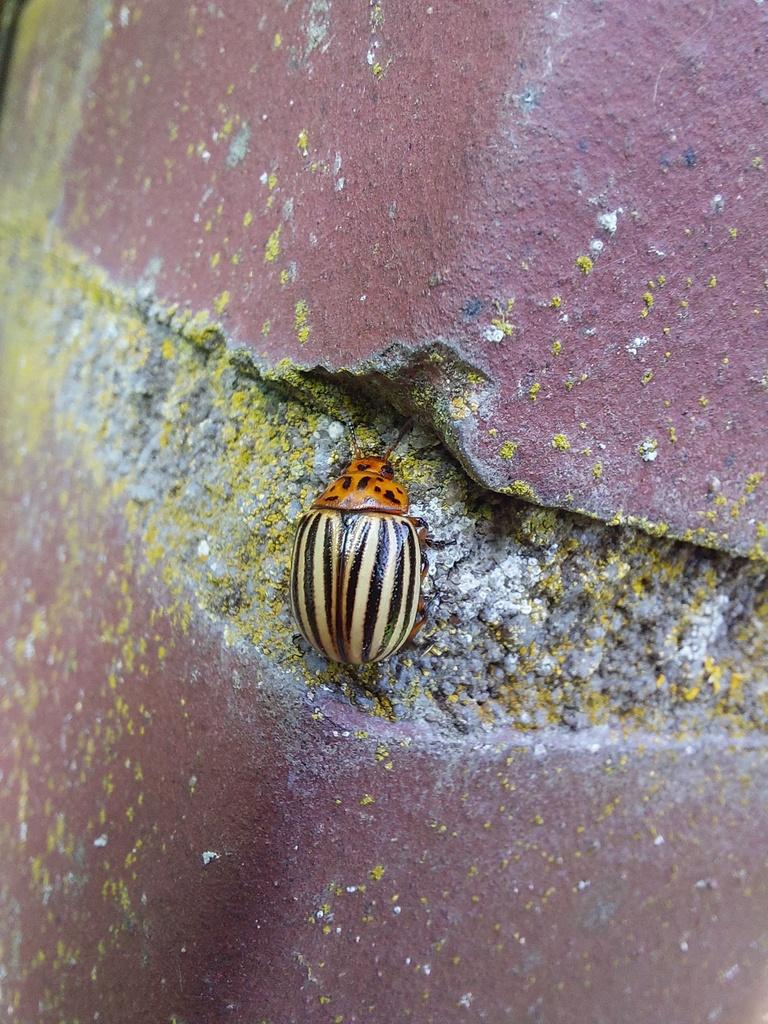potato_beetle: (247, 380, 488, 734)
